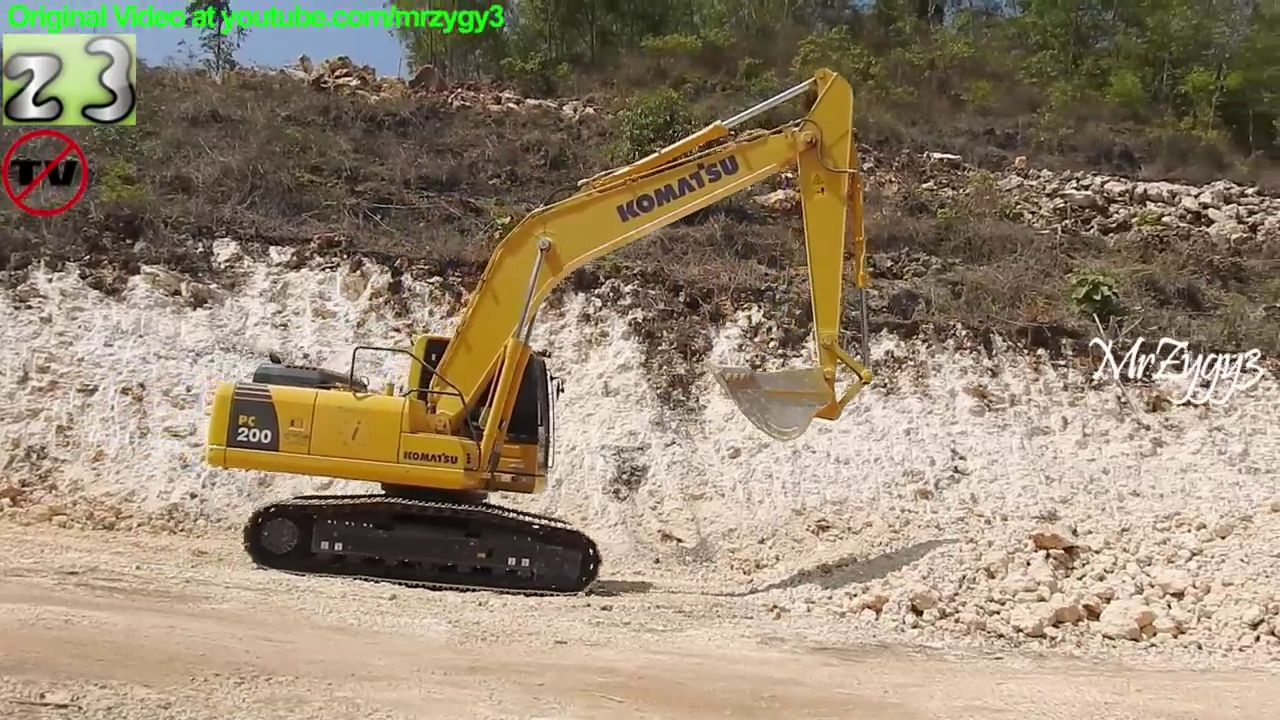excavator: (200, 64, 881, 600)
